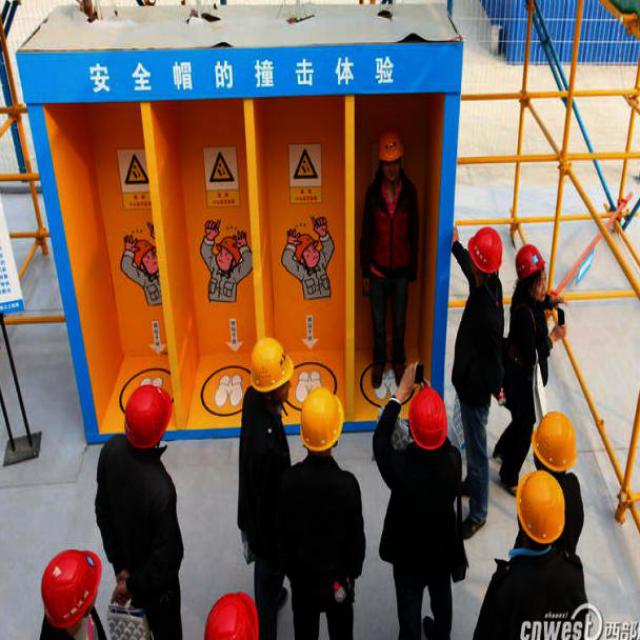helmet: (32, 539, 116, 638), (226, 328, 300, 413), (117, 359, 175, 464), (502, 459, 564, 550), (520, 398, 576, 471), (456, 215, 507, 291), (200, 573, 258, 639), (512, 225, 550, 322), (290, 385, 344, 450), (404, 385, 448, 456), (372, 120, 402, 194)
